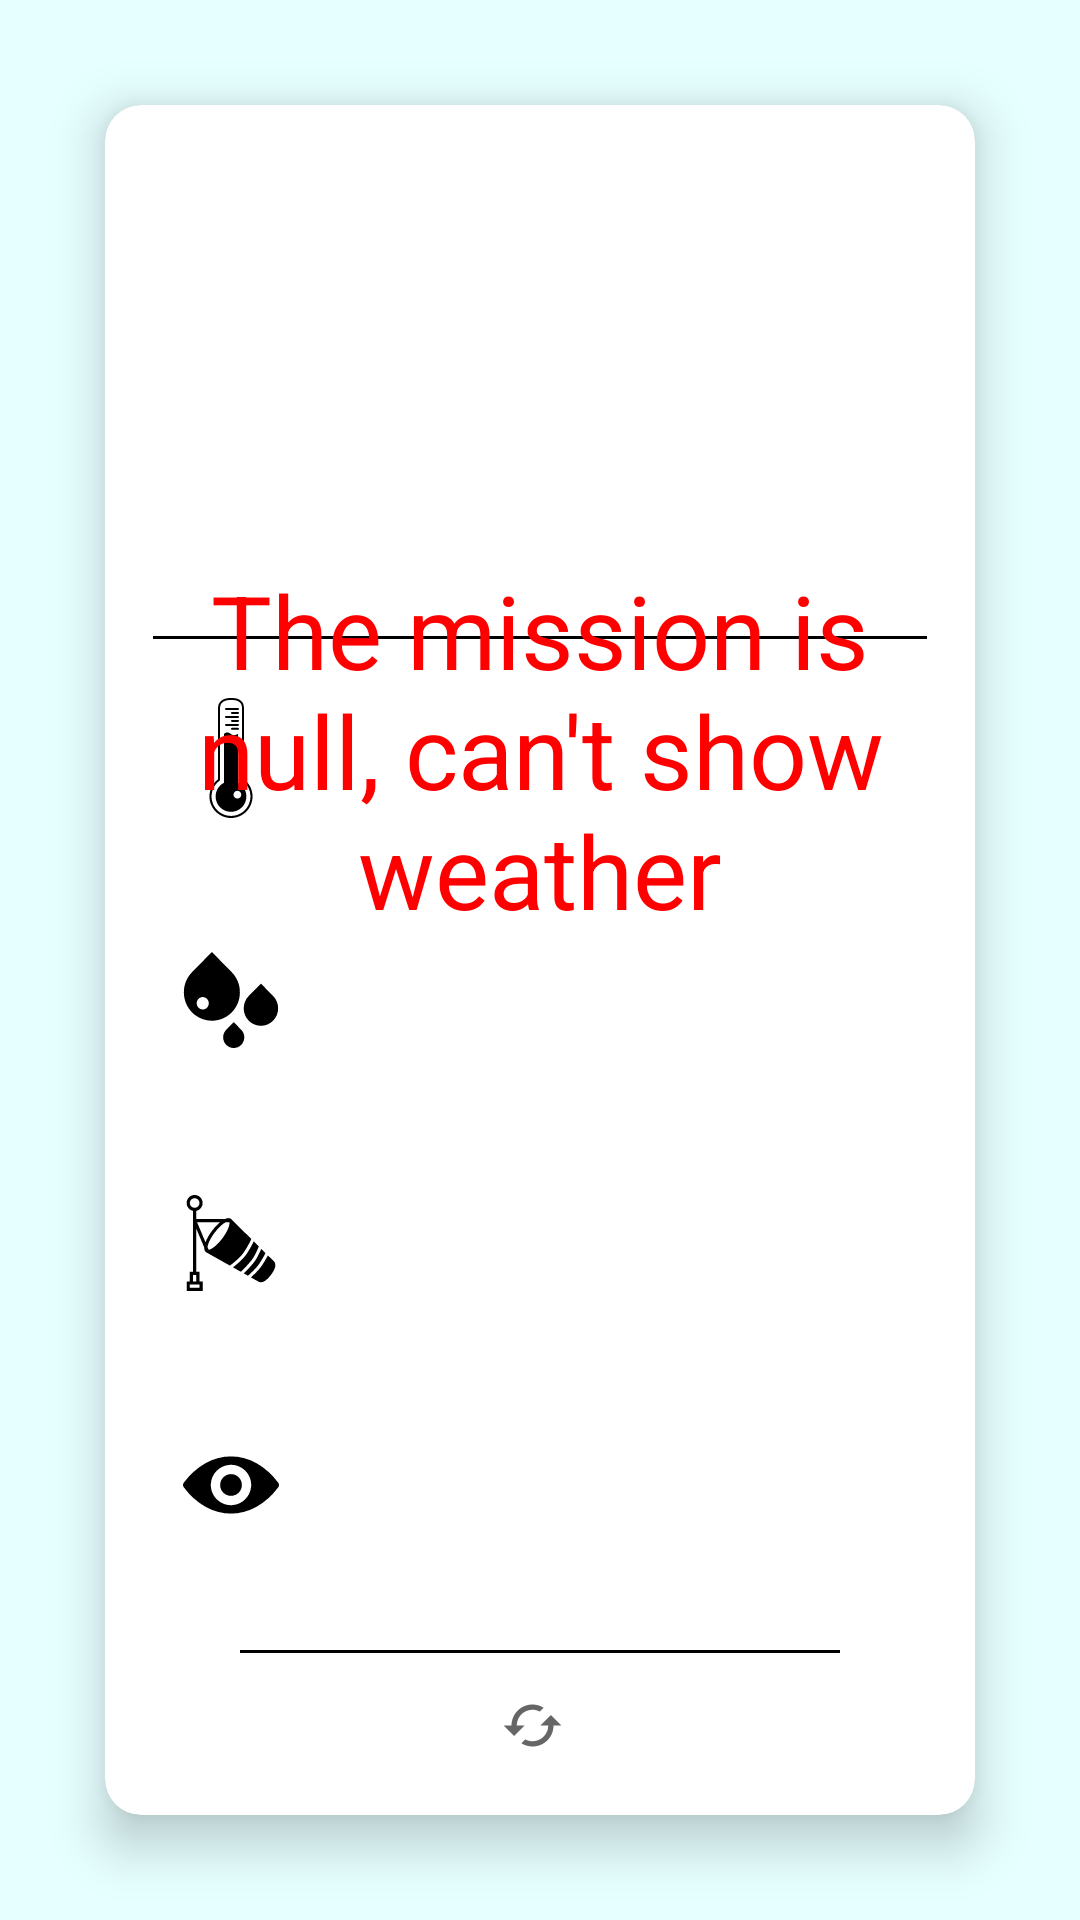

Named icons in this screenshot (1080 x 1920) and their centers, (x,y):
eye: (231,1485)
water drops: (230,1000)
wind: (231,1243)
